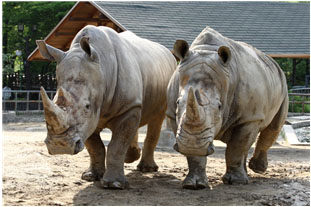Rhinoceros: (31, 28, 167, 191)
